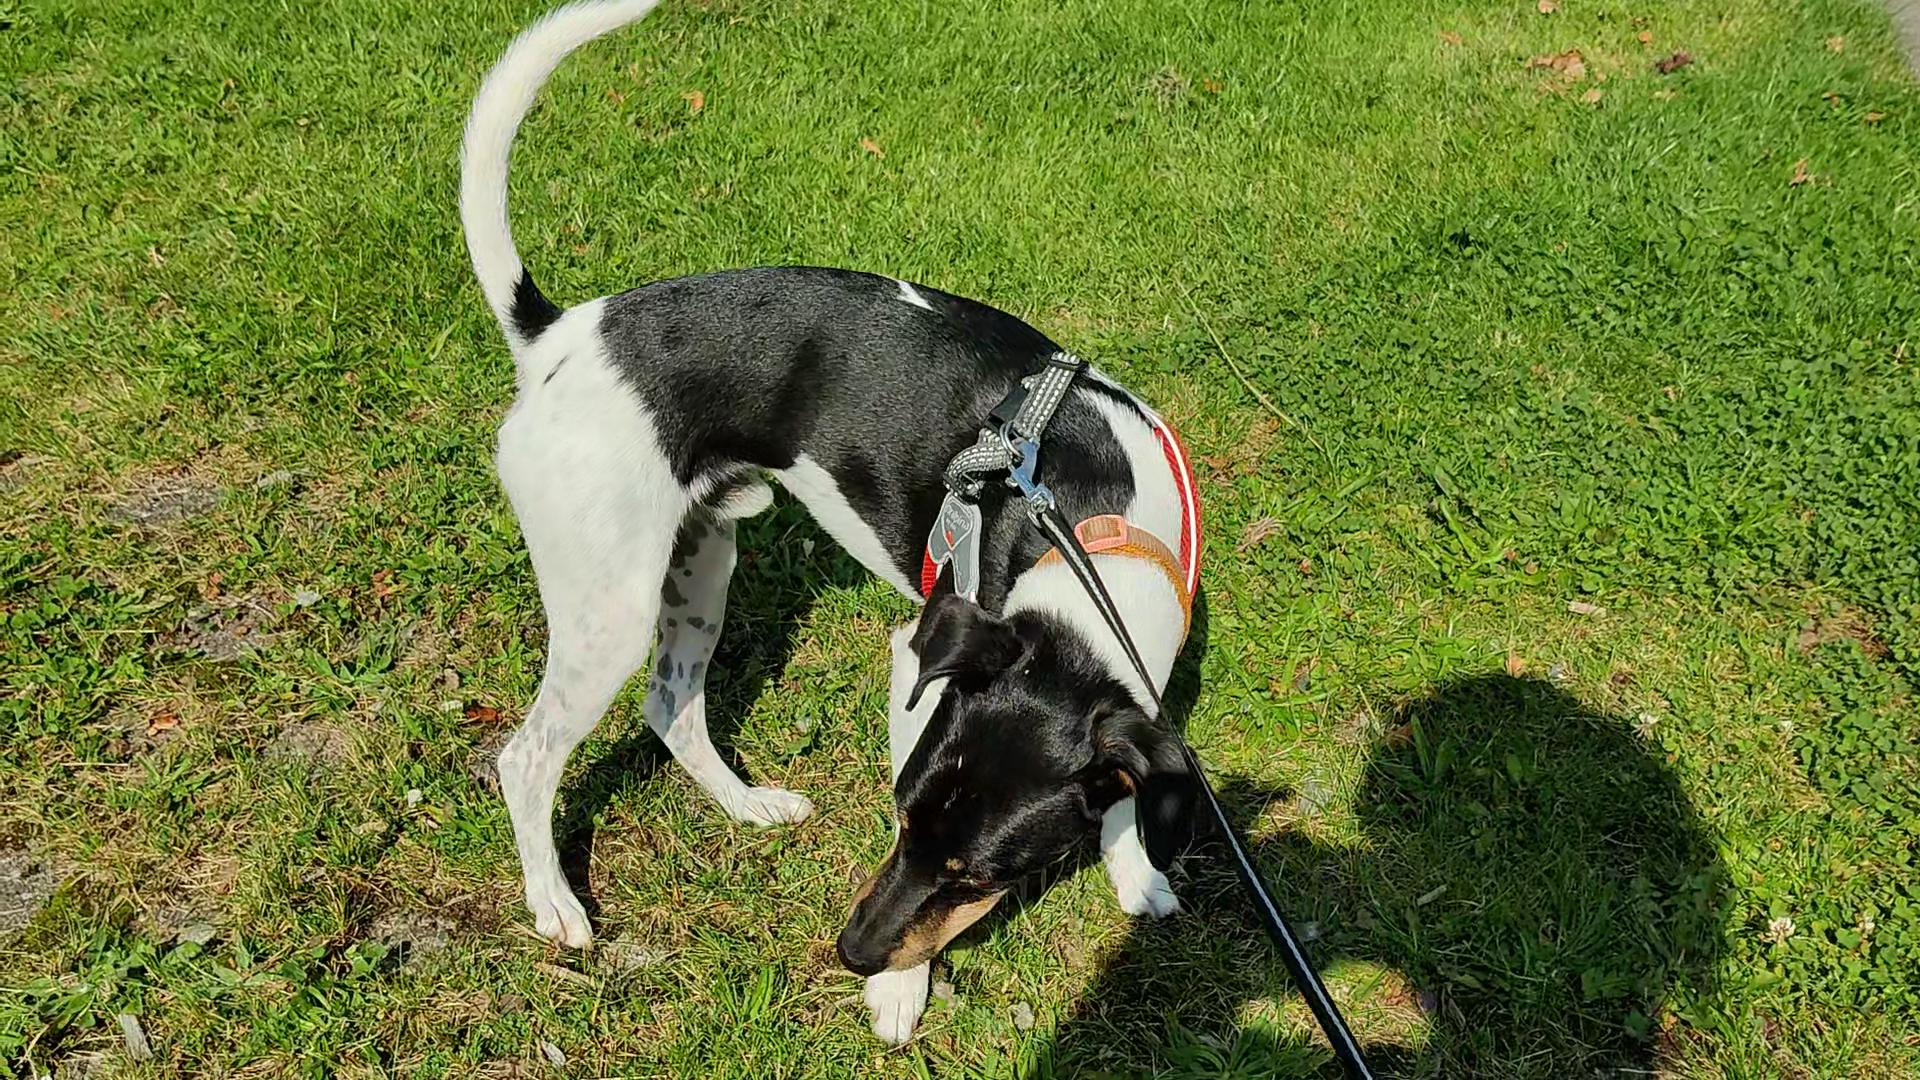Dog: (425, 0, 1261, 1044)
